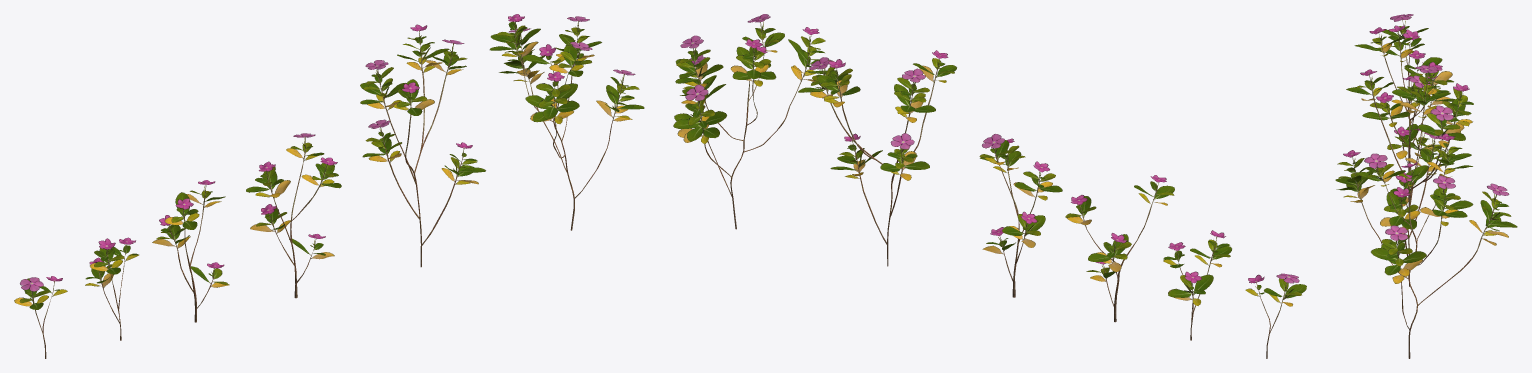
File: periwinkle_plant.glb
The picture shows the model from 3 angles, left to right: view 1: azimuth 30°, elevation 25°; view 2: azimuth 150°, elevation 25°; view 3: azimuth 270°, elevation 25°; orthographic projection. The views are drawn at different scales.
Visible parts, largest first — view 1: periwinkle_plant_01_LOD0, periwinkle_plant_02_LOD0, periwinkle_plant_03_LOD0, periwinkle_plant_04_LOD0, periwinkle_plant_05_LOD0, periwinkle_plant_06_LOD0; view 2: periwinkle_plant_01_LOD0, periwinkle_plant_02_LOD0, periwinkle_plant_03_LOD0, periwinkle_plant_04_LOD0, periwinkle_plant_05_LOD0, periwinkle_plant_06_LOD0; view 3: periwinkle_plant_01_LOD0, periwinkle_plant_02_LOD0, periwinkle_plant_03_LOD0, periwinkle_plant_04_LOD0, periwinkle_plant_05_LOD0, periwinkle_plant_06_LOD0.
Boxes of the visible parts, bbox=[...] form: periwinkle_plant_01_LOD0: bbox=[489, 14, 644, 230]; periwinkle_plant_02_LOD0: bbox=[360, 24, 485, 267]; periwinkle_plant_03_LOD0: bbox=[246, 133, 341, 298]; periwinkle_plant_04_LOD0: bbox=[152, 180, 229, 322]; periwinkle_plant_05_LOD0: bbox=[85, 237, 138, 340]; periwinkle_plant_06_LOD0: bbox=[14, 276, 67, 358]; periwinkle_plant_01_LOD0: bbox=[673, 14, 832, 229]; periwinkle_plant_02_LOD0: bbox=[798, 50, 956, 266]; periwinkle_plant_03_LOD0: bbox=[979, 134, 1062, 297]; periwinkle_plant_04_LOD0: bbox=[1065, 175, 1174, 322]; periwinkle_plant_05_LOD0: bbox=[1163, 230, 1231, 340]; periwinkle_plant_06_LOD0: bbox=[1245, 273, 1306, 358]; periwinkle_plant_01_LOD0: bbox=[1335, 133, 1517, 358]; periwinkle_plant_02_LOD0: bbox=[1346, 65, 1473, 286]; periwinkle_plant_03_LOD0: bbox=[1362, 75, 1439, 207]; periwinkle_plant_04_LOD0: bbox=[1354, 27, 1454, 171]; periwinkle_plant_05_LOD0: bbox=[1376, 25, 1453, 123]; periwinkle_plant_06_LOD0: bbox=[1382, 14, 1428, 103].
Bounding box in the file's own units: 1.24 × 0.4107 × 0.3207.
1 material, 1 textured.
